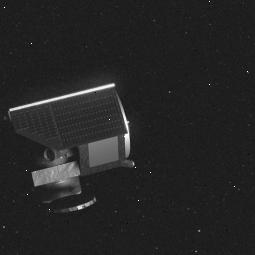cheops: (17, 74, 133, 222)
